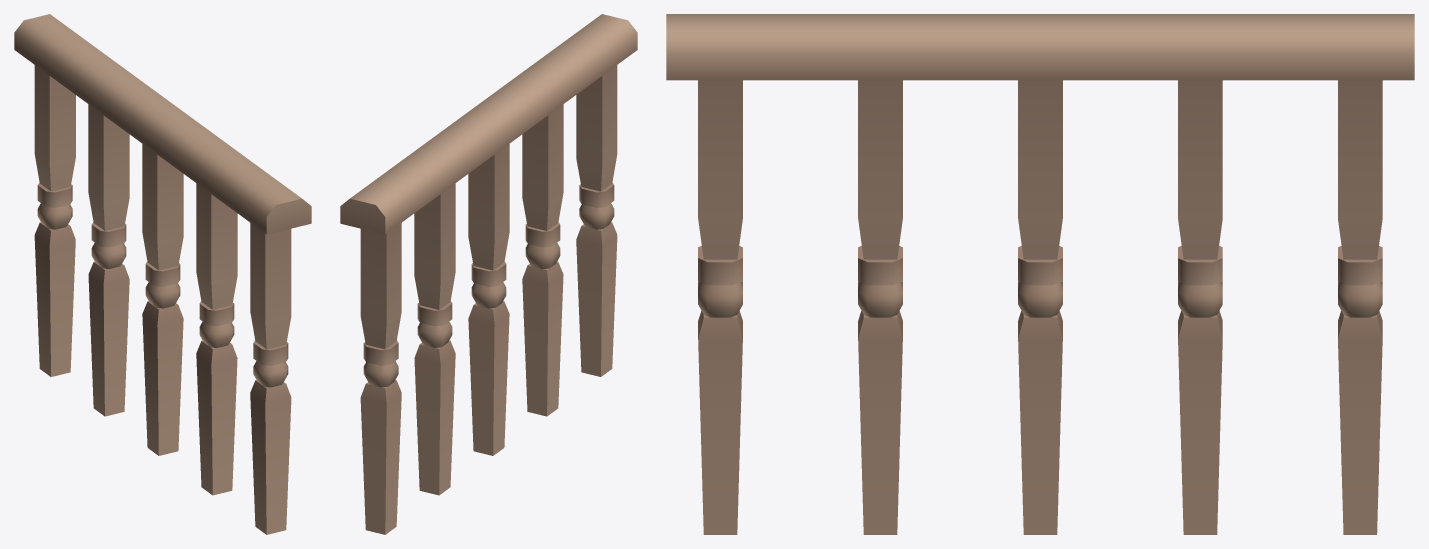
The model's file is stairs-railing-straight-classic.glb.
3 views of the same model, side by side, from view 1: azimuth 30°, elevation 25°; view 2: azimuth 150°, elevation 25°; view 3: azimuth 270°, elevation 25° (orthographic). The views are drawn at different scales.
Visible parts, largest first — view 1: stairs-railing-straight-classic; view 2: stairs-railing-straight-classic; view 3: stairs-railing-straight-classic.
Part boxes in pixels (<box>): stairs-railing-straight-classic: <box>14,14,311,534</box>; stairs-railing-straight-classic: <box>340,14,637,534</box>; stairs-railing-straight-classic: <box>666,14,1414,534</box>.
Size of the model in its own units: 0.12 by 0.87 by 1.17.
